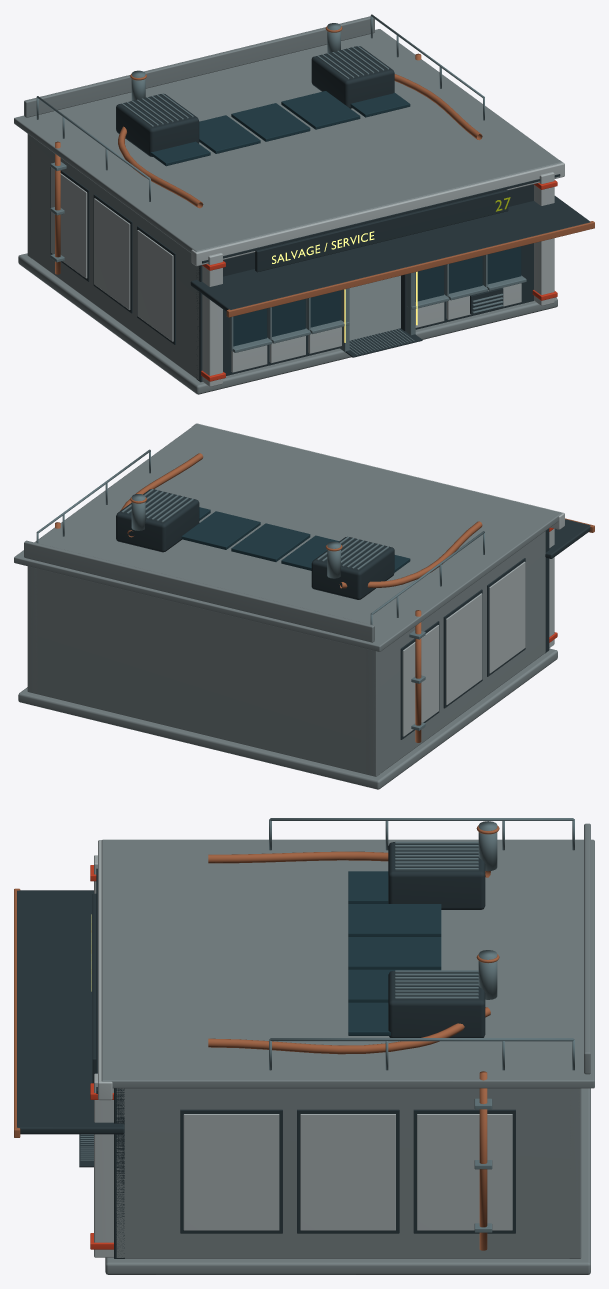
Rendered from workshop.glb.
3 renders of one model, top to bottom at view 1: azimuth 30°, elevation 25°; view 2: azimuth 150°, elevation 25°; view 3: azimuth 270°, elevation 25°, orthographic. The views are drawn at different scales.
Visible parts, largest first — view 1: workshop; view 2: workshop; view 3: workshop.
Boxes of the visible parts, left/top/right/bottom form: workshop: left=14, top=14, right=594, bottom=394; workshop: left=14, top=423, right=594, bottom=789; workshop: left=14, top=818, right=594, bottom=1274.
Size of the model in its own units: 14.81 by 7.6 by 14.95.
